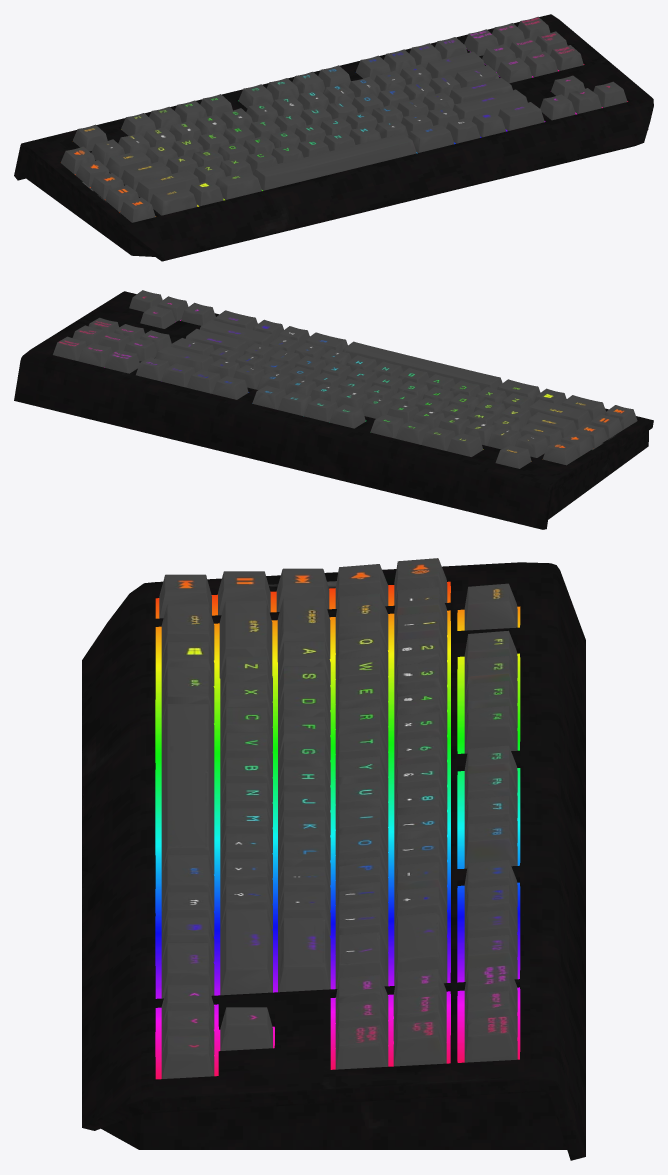
Rendered from kb-logitech-pro-x-tkl_lod1.glb.
3 views of the same model, one above another, from view 1: azimuth 30°, elevation 25°; view 2: azimuth 150°, elevation 25°; view 3: azimuth 270°, elevation 25° (orthographic). The views are drawn at different scales.
Visible parts, largest first — view 1: body; view 2: body; view 3: body.
Part boxes in pixels (bbox=[...]): body: bbox=[14, 14, 653, 261]; body: bbox=[14, 290, 653, 529]; body: bbox=[82, 558, 585, 1160].
Size of the model in its own units: 0.361 by 0.034 by 0.149.
Materials: 1 (1 with a texture image).
